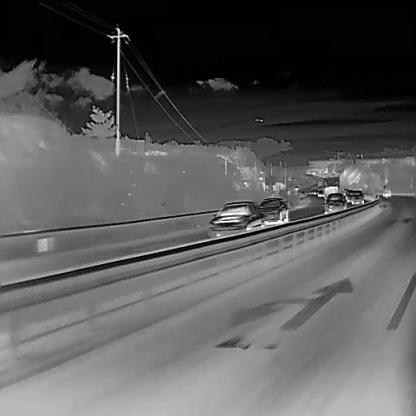car: (208, 199, 266, 241), (255, 196, 288, 226), (322, 191, 348, 214), (350, 188, 363, 206), (381, 183, 391, 197), (345, 190, 353, 202), (316, 188, 324, 197), (311, 187, 318, 195)
truck: (319, 175, 340, 204)
